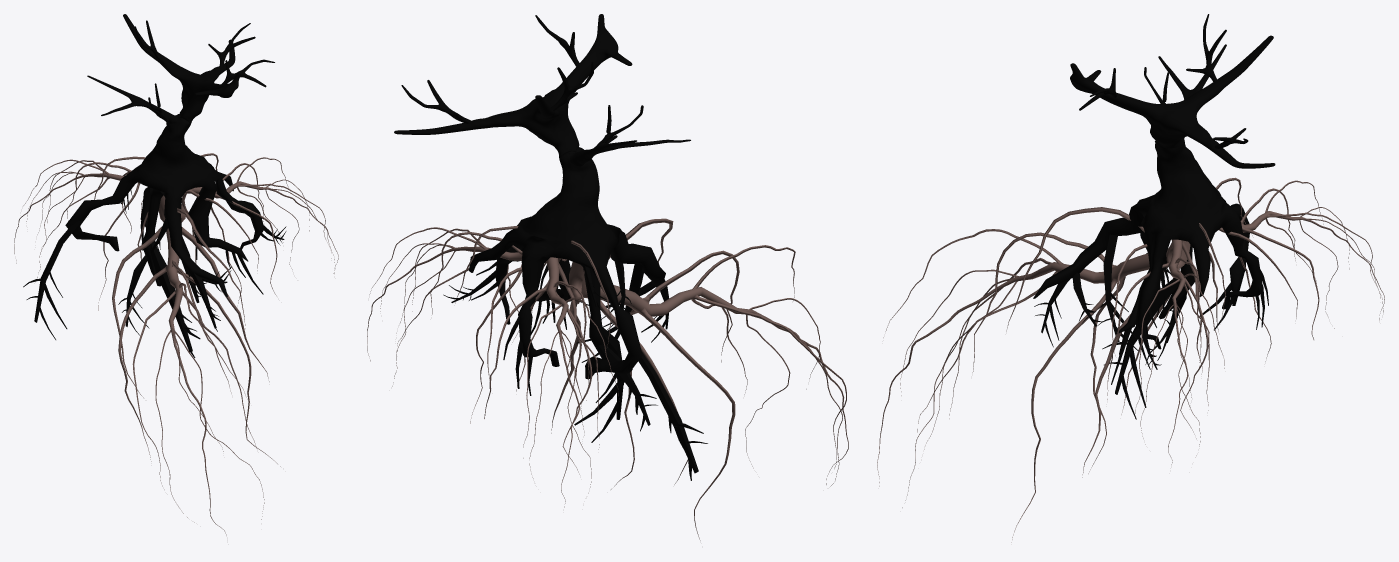
The model's file is testing the TRUNKS.fbx.
The picture shows the model from 3 angles, left to right: view 1: azimuth 30°, elevation 25°; view 2: azimuth 150°, elevation 25°; view 3: azimuth 270°, elevation 25°; orthographic projection. The views are drawn at different scales.
Parts seen in each view (by area): view 1: Cube.017; view 2: Cube.017; view 3: Cube.017.
Boxes of the visible parts, <box> form: Cube.017: <box>14,14,338,535</box>; Cube.017: <box>367,14,848,540</box>; Cube.017: <box>877,14,1384,542</box>.
Size of the model in its own units: 1158 by 1601 by 1464.
